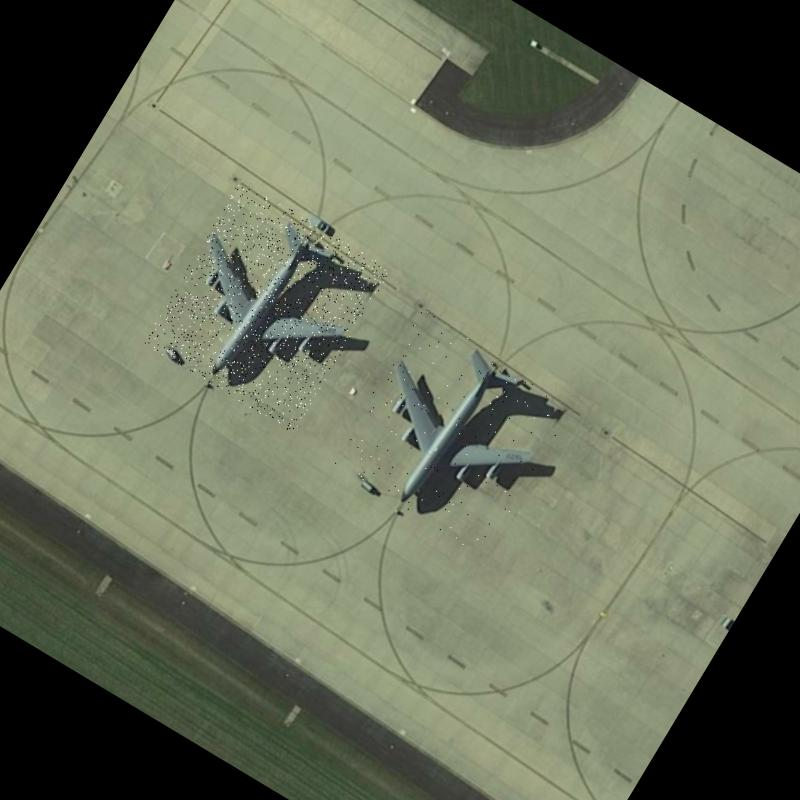A14: (142, 179, 390, 433), (328, 308, 576, 558)
